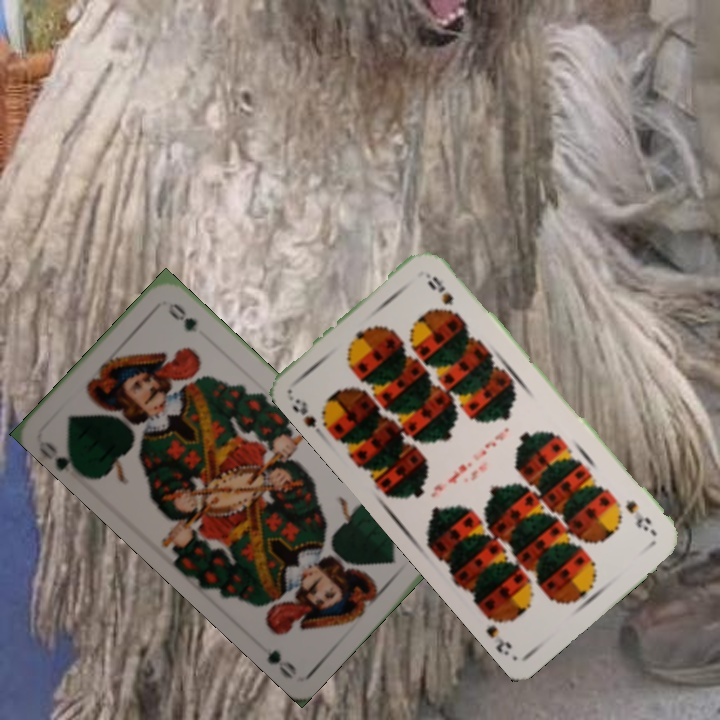GO: (37, 436, 86, 478)
S9: (287, 394, 335, 434), (621, 495, 659, 538)
